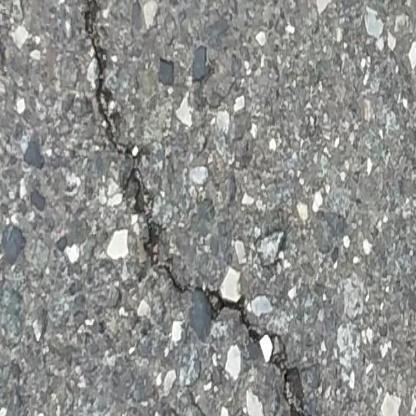Cracks: (75, 0, 356, 416)
